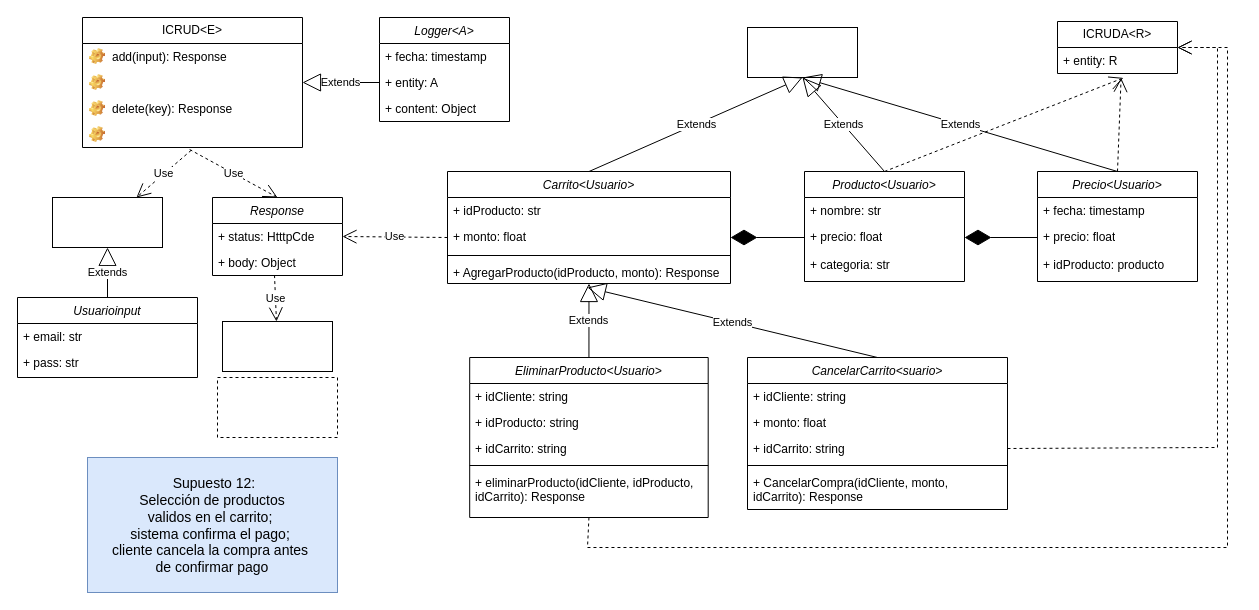
Image size: 1259x610. Some labels were removed from this diagram. The centre of each missing label's shape, as x and y in pixels:
200: OK 400: Not Allowed 404: Not Found: the point at 277,407
HttpCode: the point at 277,346
query(key): Response: the point at 192,134
update(key, input): Response: the point at 192,82
«interface» ICRUD: the point at 802,52
«interface» input: the point at 107,222
